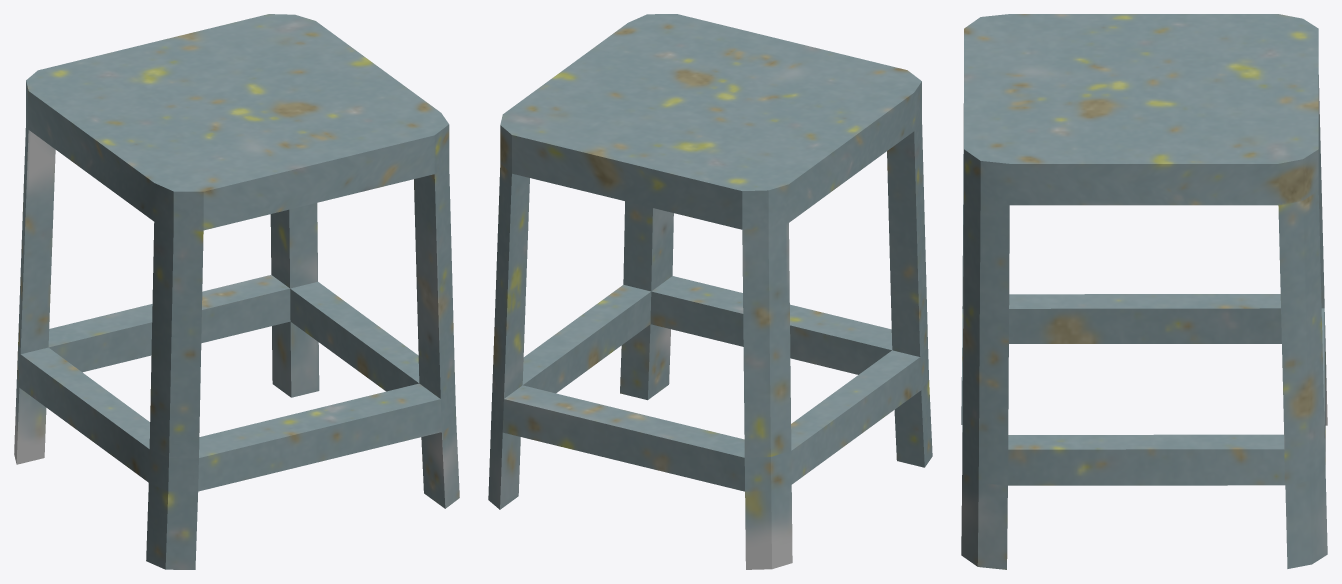
The model's file is Plastic_Stool_1.fbx.
The picture shows the model from 3 angles, left to right: view 1: azimuth 30°, elevation 25°; view 2: azimuth 150°, elevation 25°; view 3: azimuth 270°, elevation 25°; orthographic projection. The views are drawn at different scales.
Parts seen in each view (by area): view 1: Plastic Stool_1; view 2: Plastic Stool_1; view 3: Plastic Stool_1.
Boxes of the visible parts, bbox=[...] form: Plastic Stool_1: bbox=[14, 14, 459, 569]; Plastic Stool_1: bbox=[488, 14, 932, 569]; Plastic Stool_1: bbox=[961, 14, 1327, 569].
Bounding box in the file's own units: 56.11 × 65.75 × 54.42.
